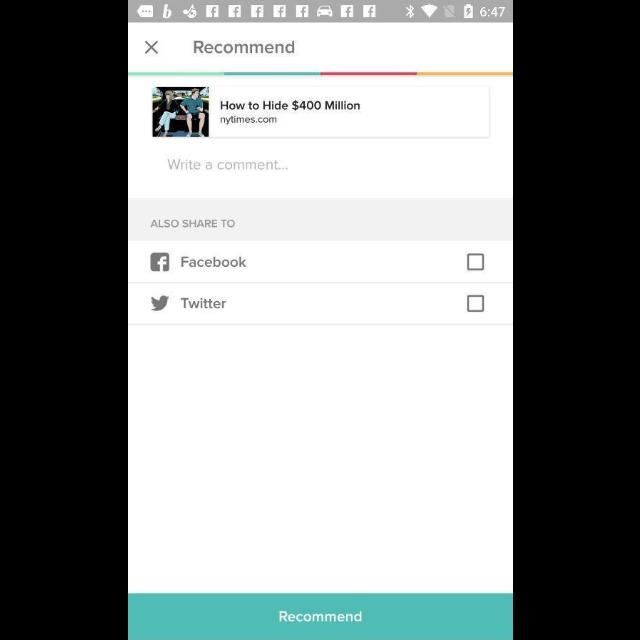checkbox: (466, 254, 484, 272), (468, 296, 482, 312)
icon: (150, 254, 170, 272), (150, 296, 170, 312), (144, 41, 158, 55)
image: (152, 89, 208, 138)
text: (220, 100, 360, 112), (166, 159, 288, 171), (192, 40, 294, 54), (181, 256, 247, 268), (150, 220, 234, 228), (220, 116, 276, 125), (180, 298, 227, 308)
textbutton: (128, 592, 512, 640)
uppertaskbar: (128, 1, 512, 23)
